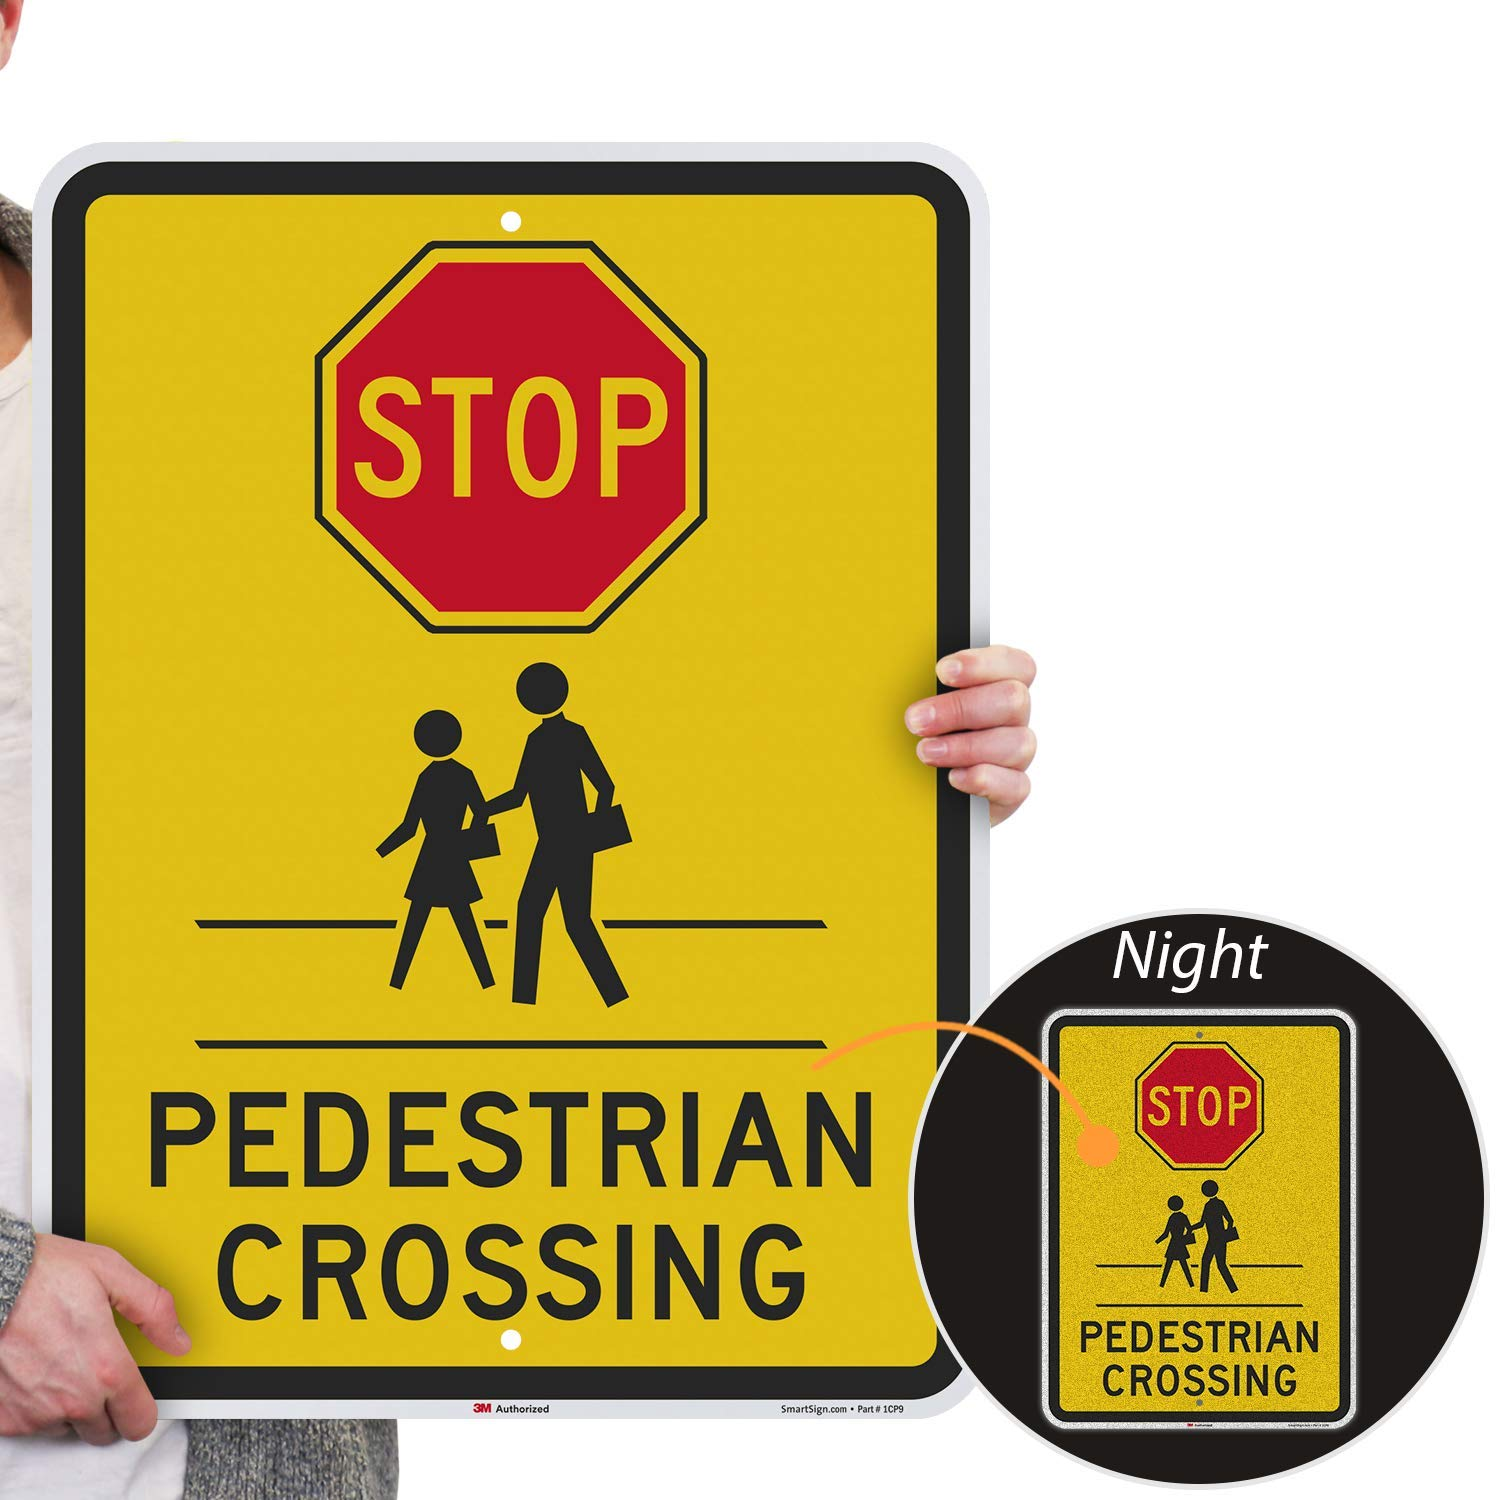pedestrian: (212, 641, 817, 1057), (1111, 1170, 1300, 1310)
stop: (319, 237, 712, 634), (1135, 1041, 1268, 1172)
